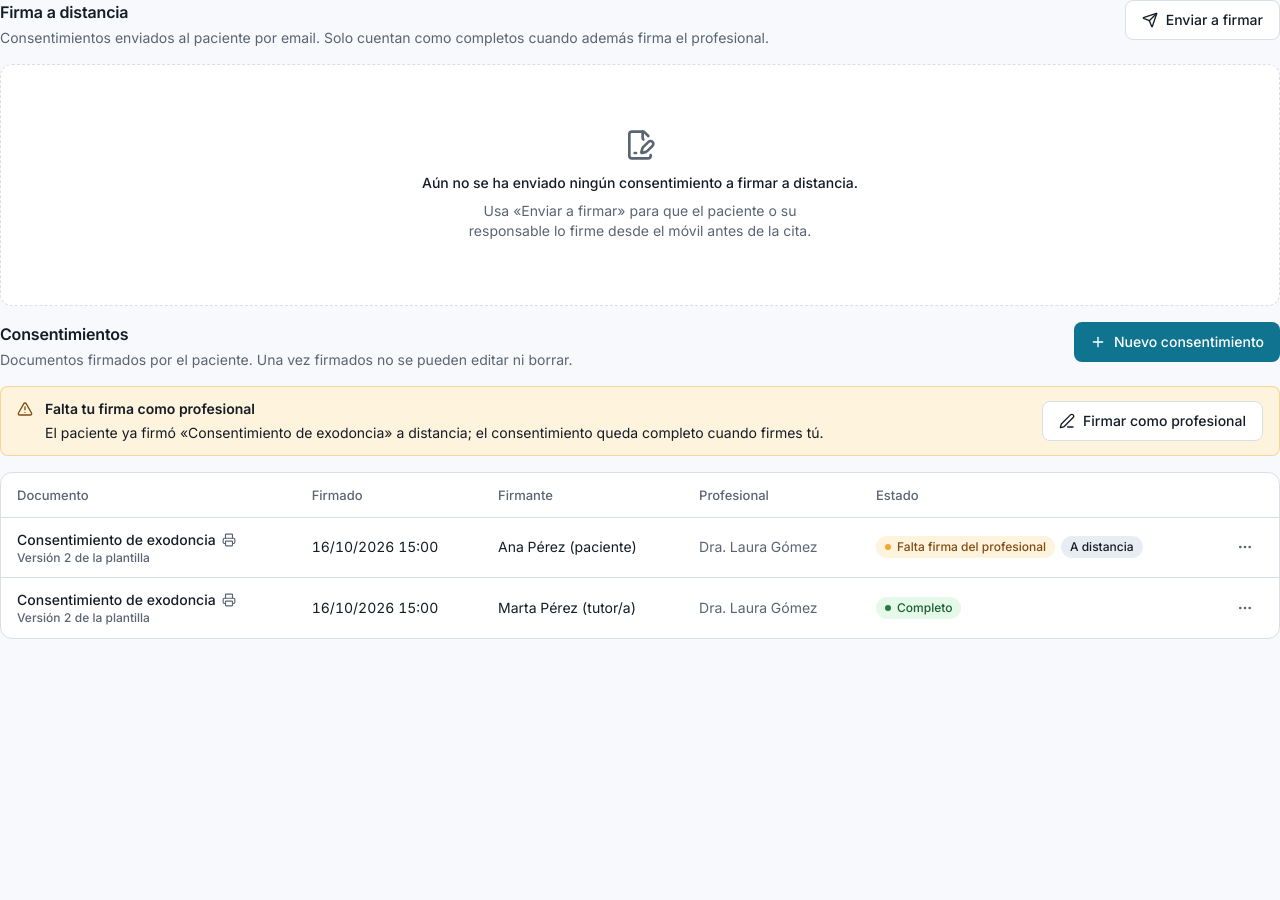
PatientConsentsTab › DX-243: «Completo» o «Falta firma del profesional»; solo el profesional elegido ve «Firmar como profesional»
The image size is (1280, 900).
expect the 2nd row shows "Falta firma del profesional": met, box [897,540,1046,554]
expect the 2nd row shows "A distancia": met, box [1070,540,1134,554]
Click the button named "Acciones de" in the row of "Marta Pérez (tutor/a)" at [1245, 608], box [1227,590,1263,626]
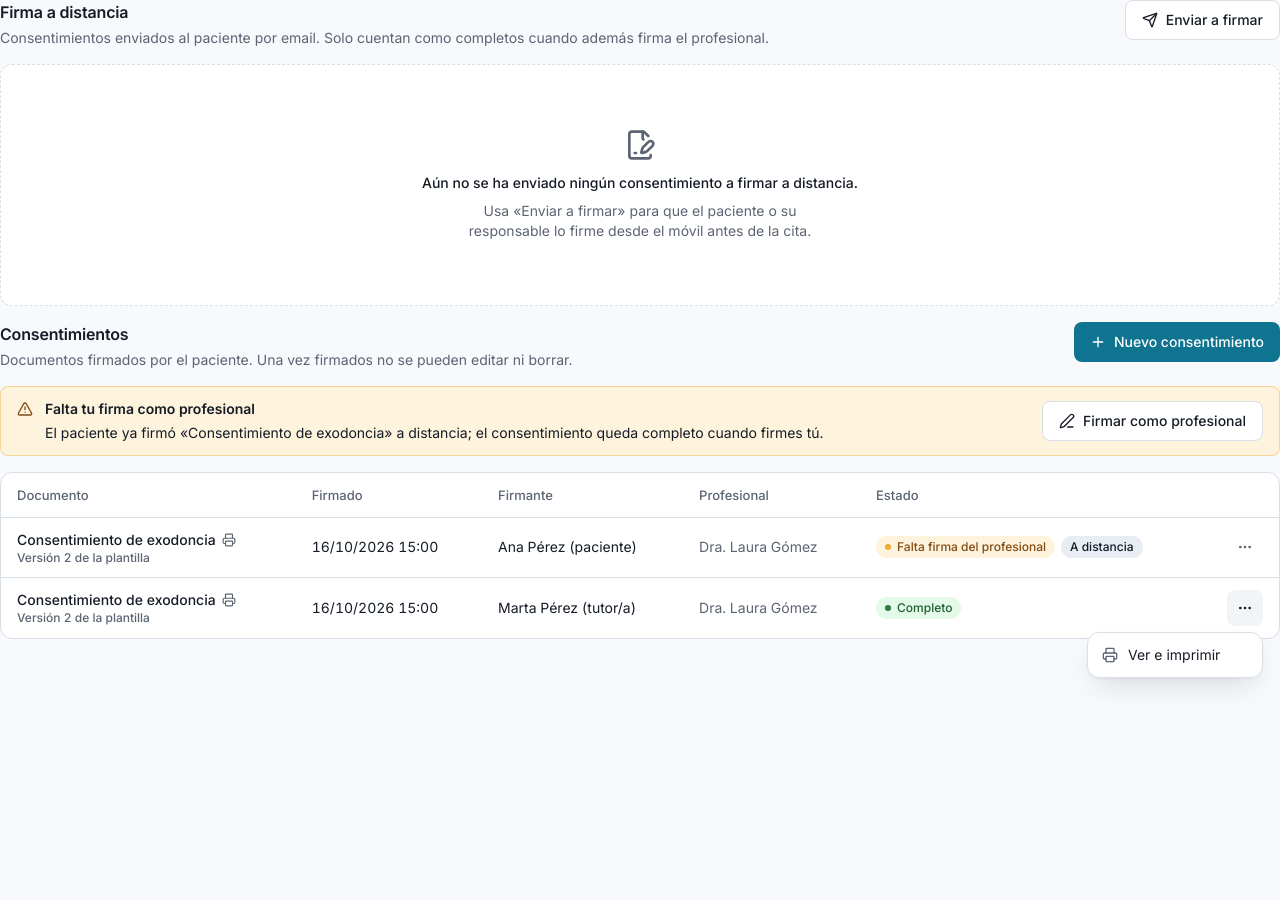
expect the menu item "Ver e imprimir" is shown: met, box [1102,646,1220,663]
Press Escape
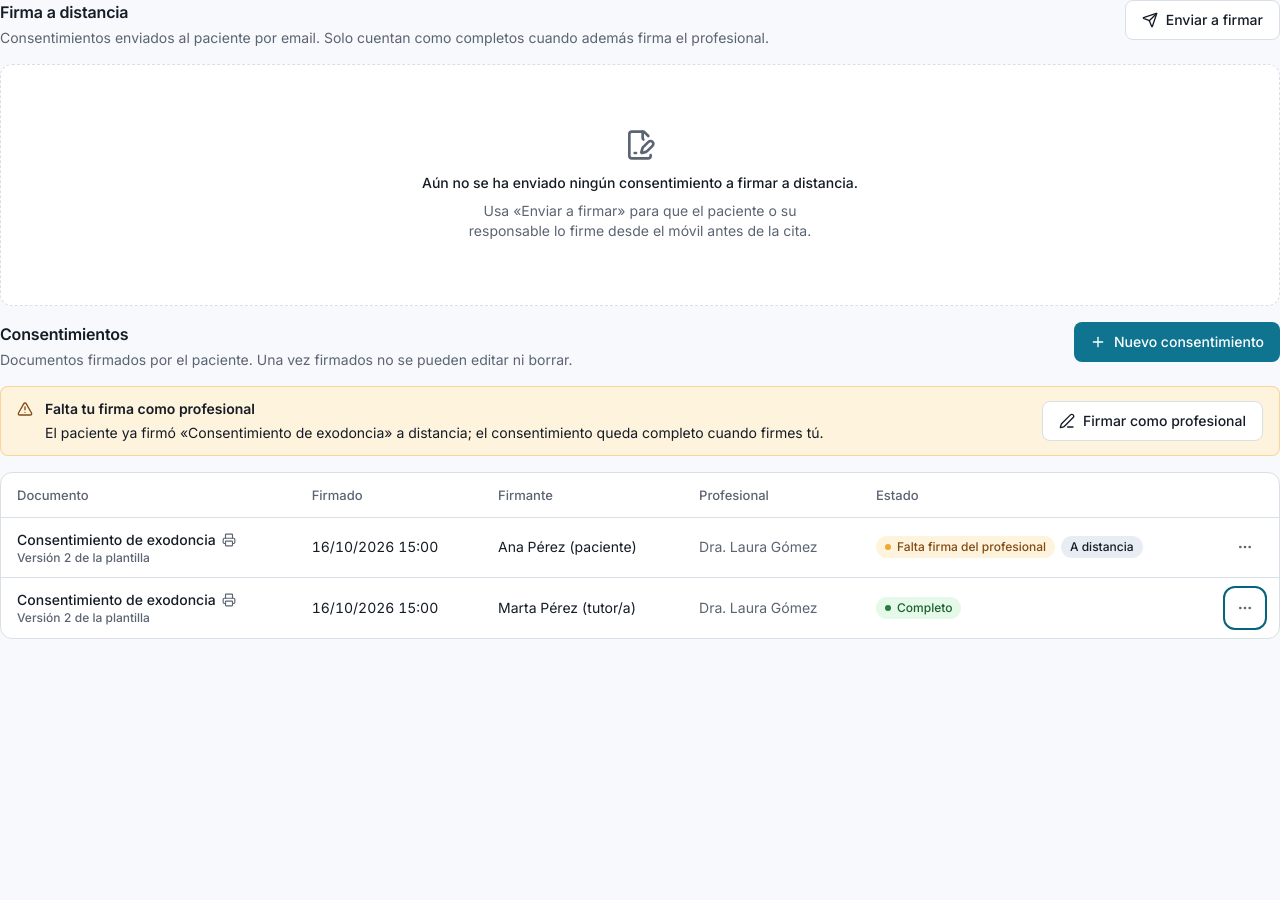
Click the button named "Acciones de" in the row of "Ana Pérez (paciente)" at [1245, 548], box [1227,530,1263,566]
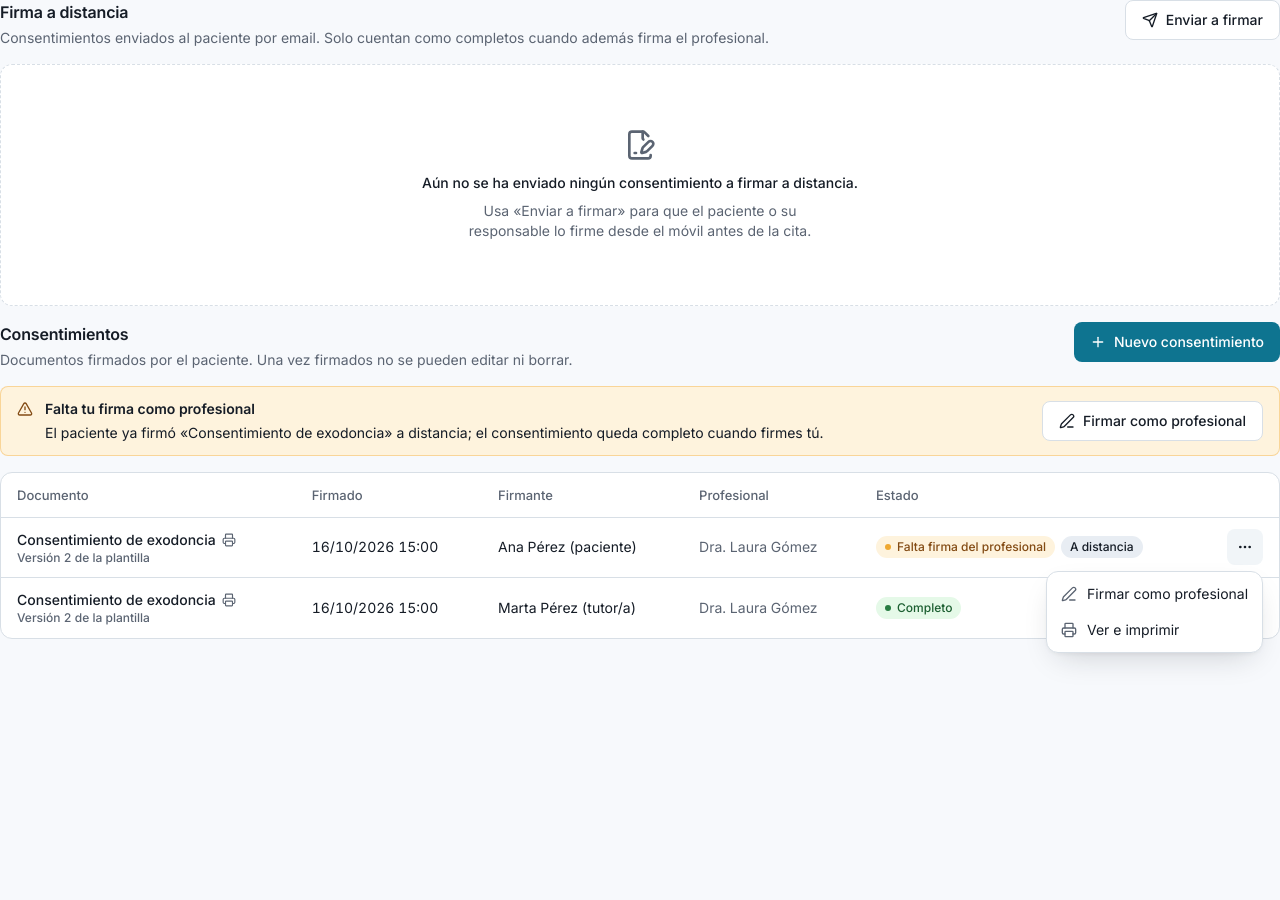
Click the menu item "Firmar como profesional" at [1155, 594], box [1061,585,1248,602]
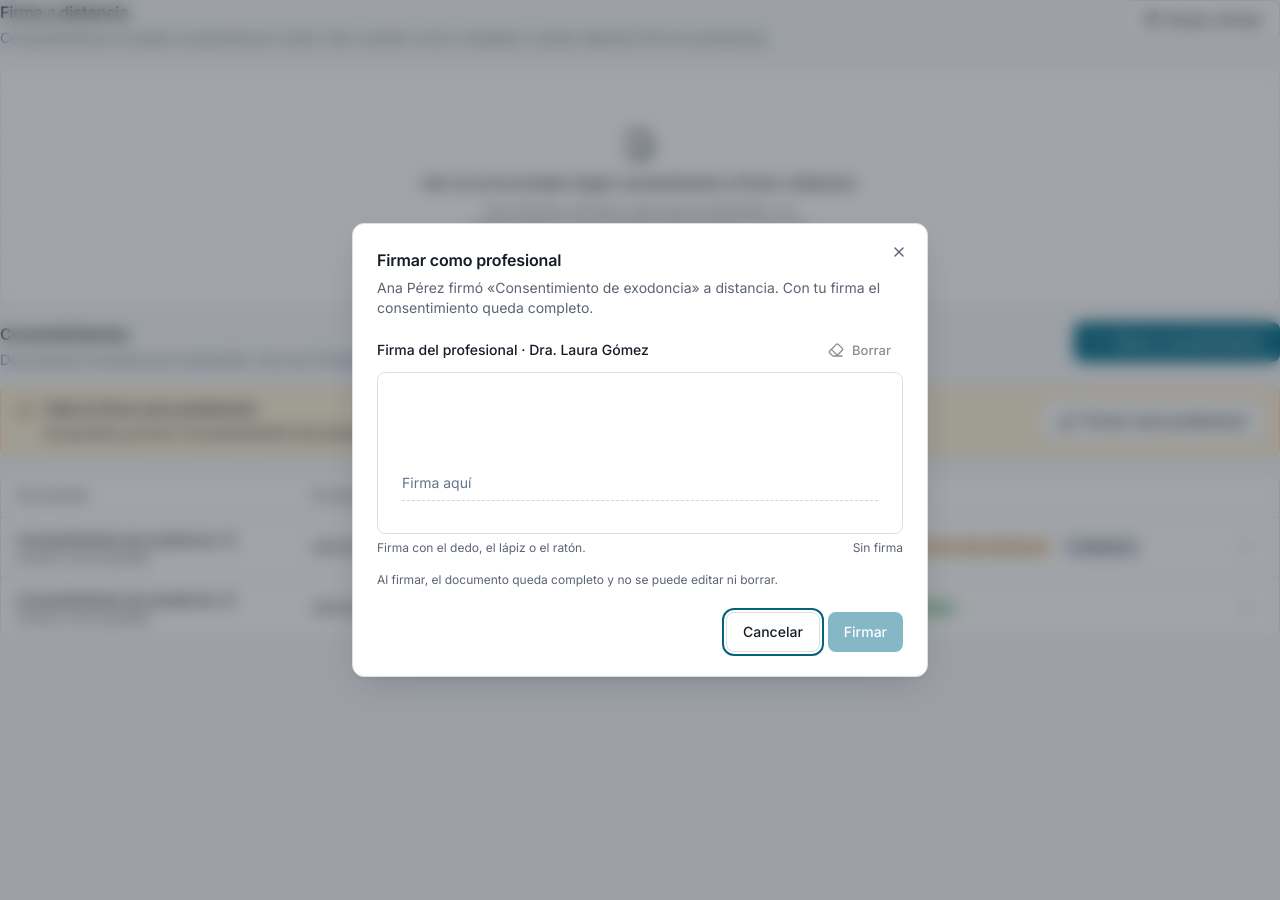
expect the dialog "Firmar como profesional" is shown: met, box [352,223,928,677]
